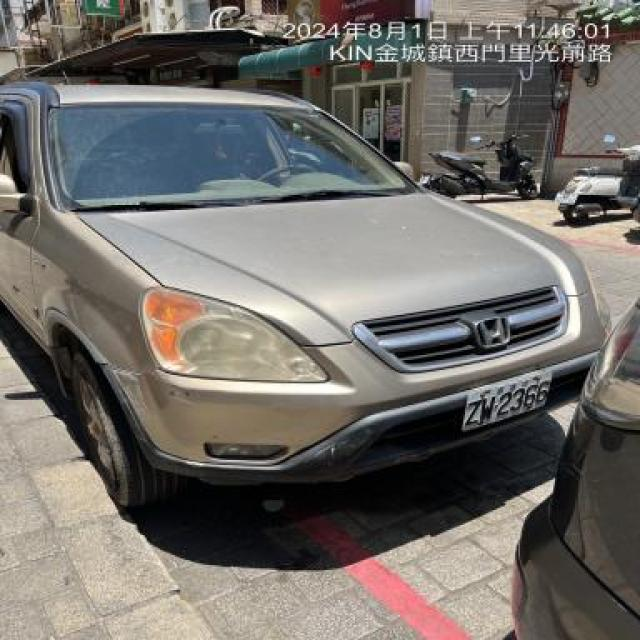Legalparking: (0, 85, 607, 505)
